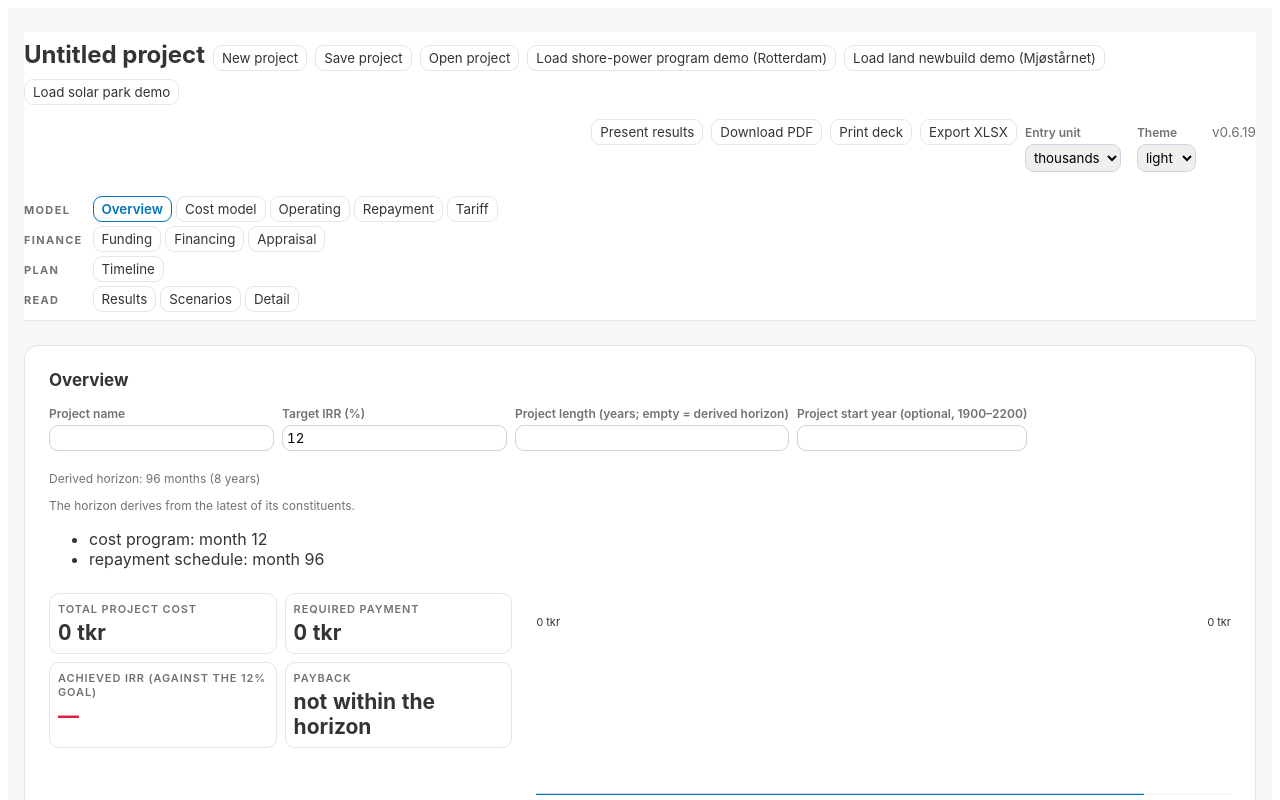
Test: v0.6.10 Task E.1: the funding worksuite surface › FUNDING-EDITORS: the blank app adds and removes grant rows and a zero amount refuses through the issues summary (FND-AMOUNT)
Click the button "Funding".
click(127, 239)  # box [92,226,161,252]
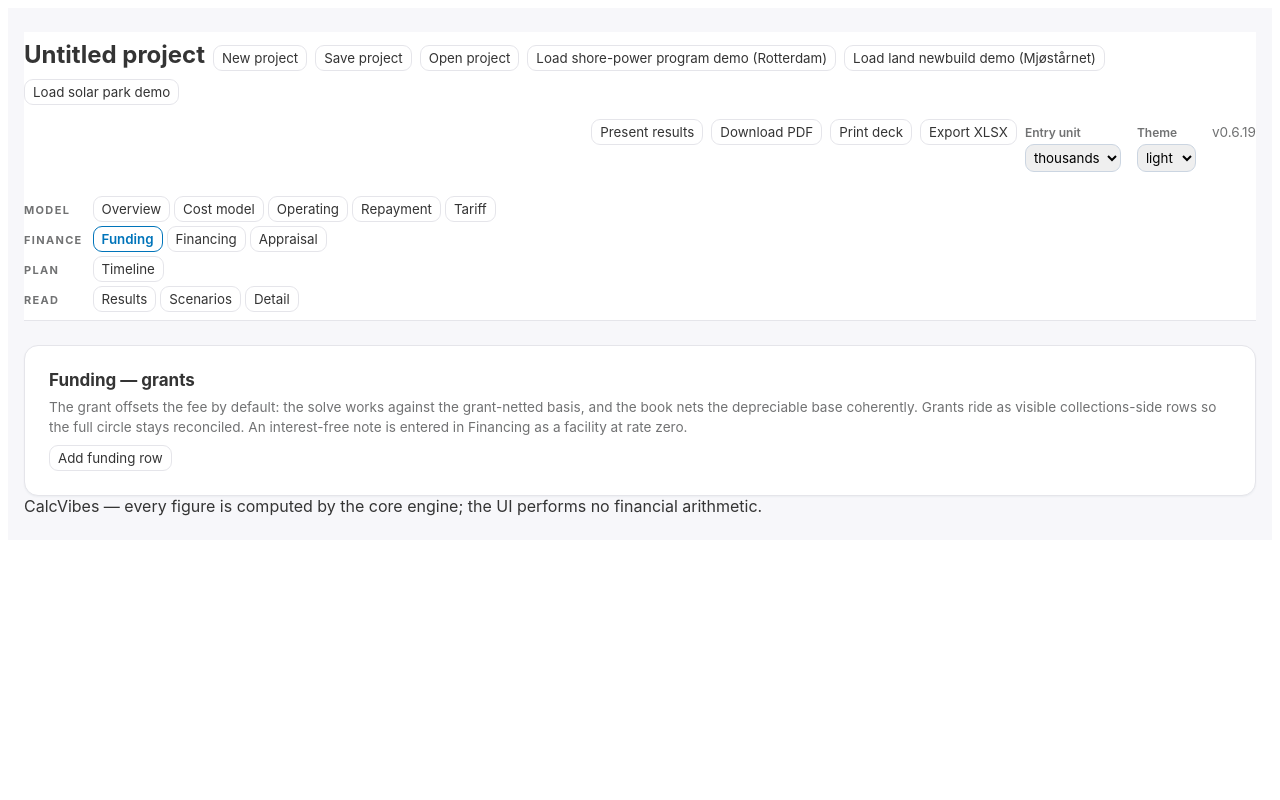
Click the button "Add funding row".
click(110, 458)  # box [49,445,172,471]
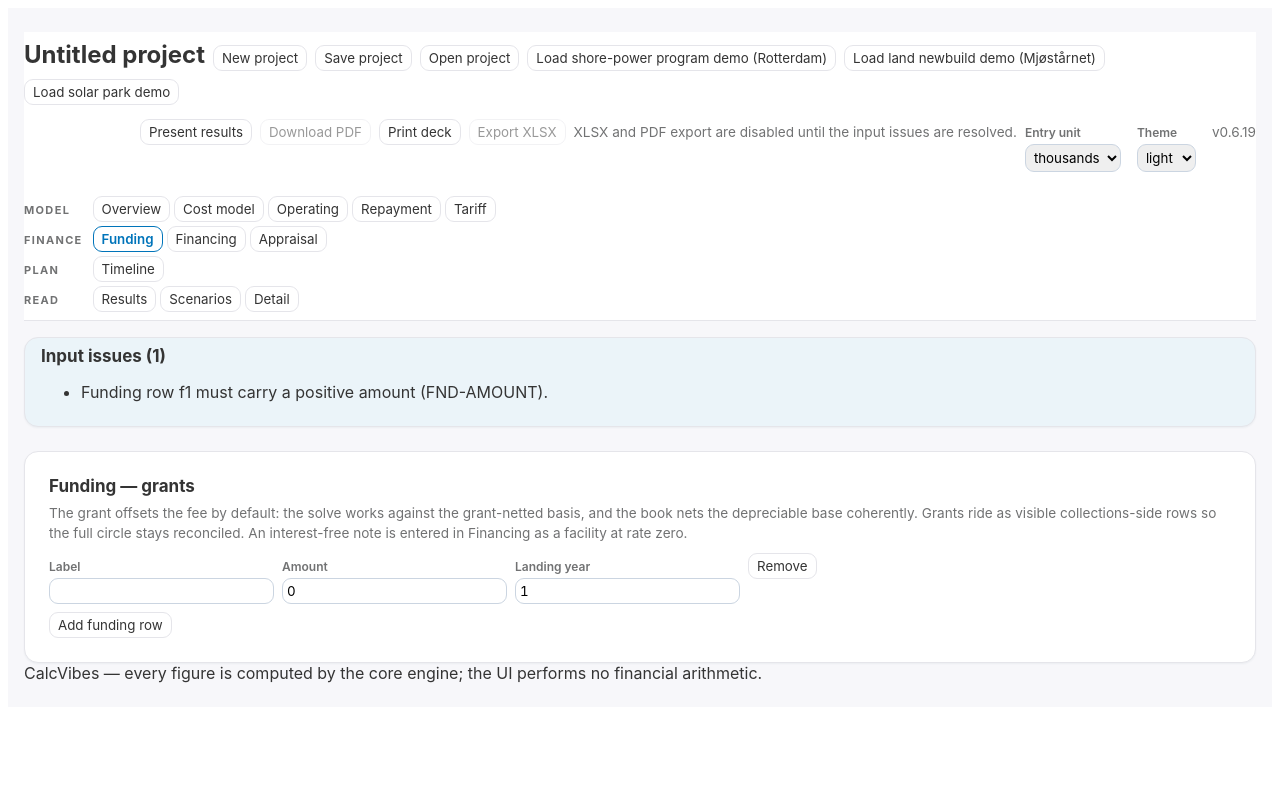
Expected: the element showing "Label Amount Landing year Remove" is shown, [49,553,817,604]
Expected: the element with test id "issues-summary" is shown, [24,337,1256,427]
Expected: the element with test id "issues-summary" shows "Funding row f1 must carry a positive amount (FND-AMOUNT).", [81,382,548,402]
// Removing the row clears the refusal — the blank project computes cleanly again.
Click the button "Remove".
click(782, 566)  # box [748,553,817,579]
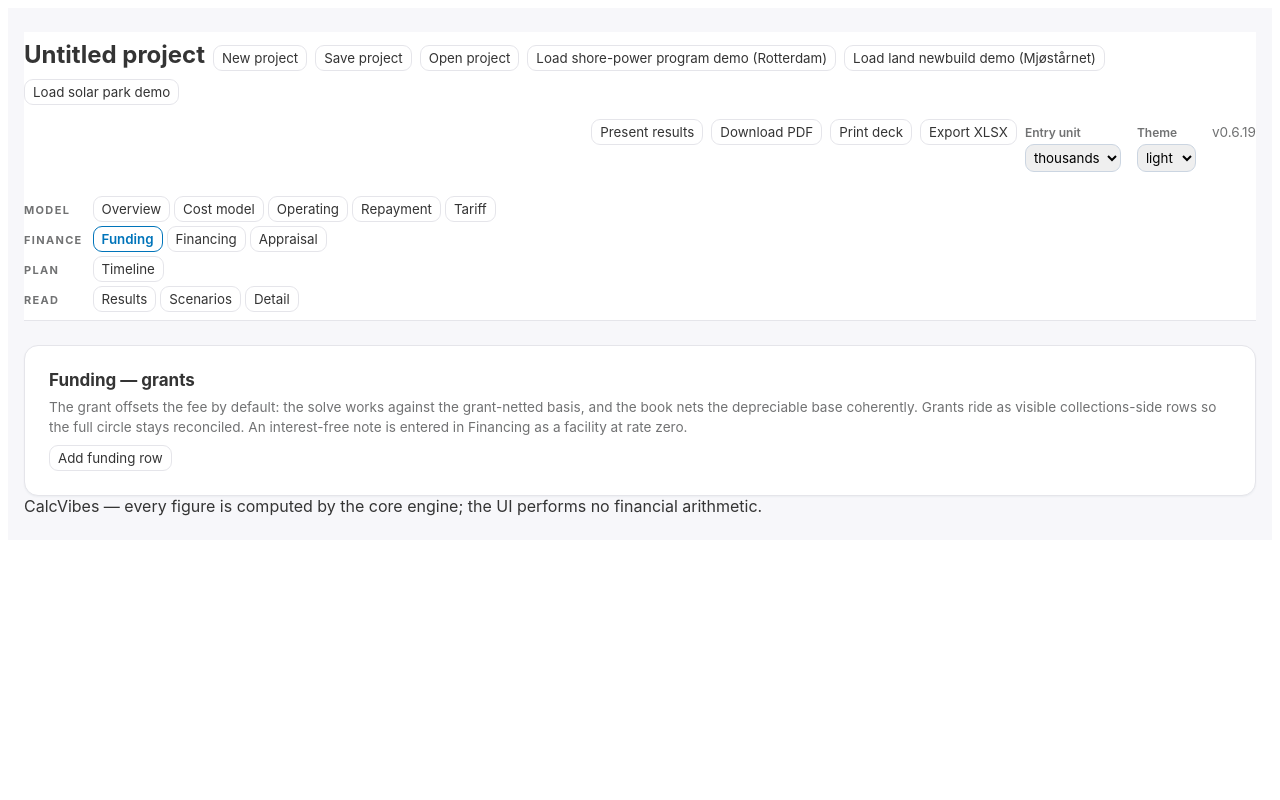
Expected: the element with test id "issues-summary" is gone
